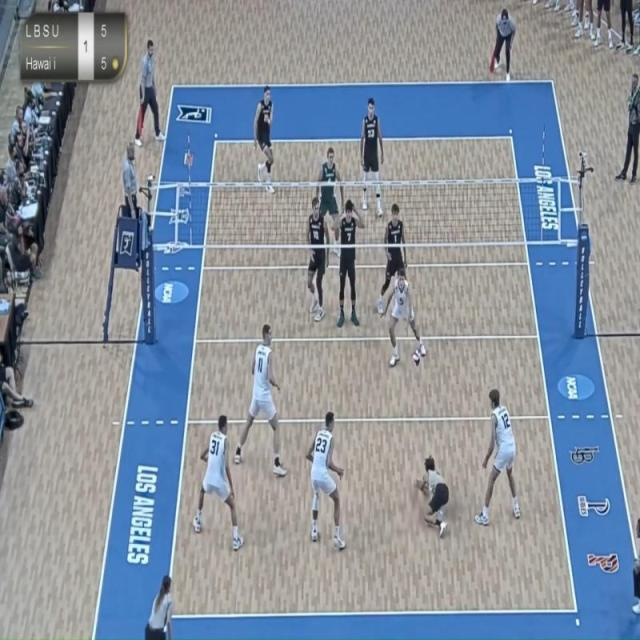volleyball: (411, 347, 424, 369)
